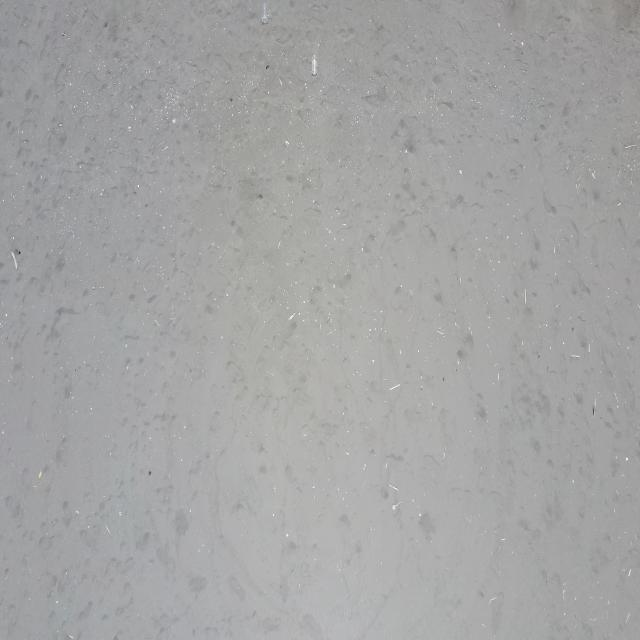takeaway-cup: (261, 2, 268, 23), (311, 55, 317, 76)
